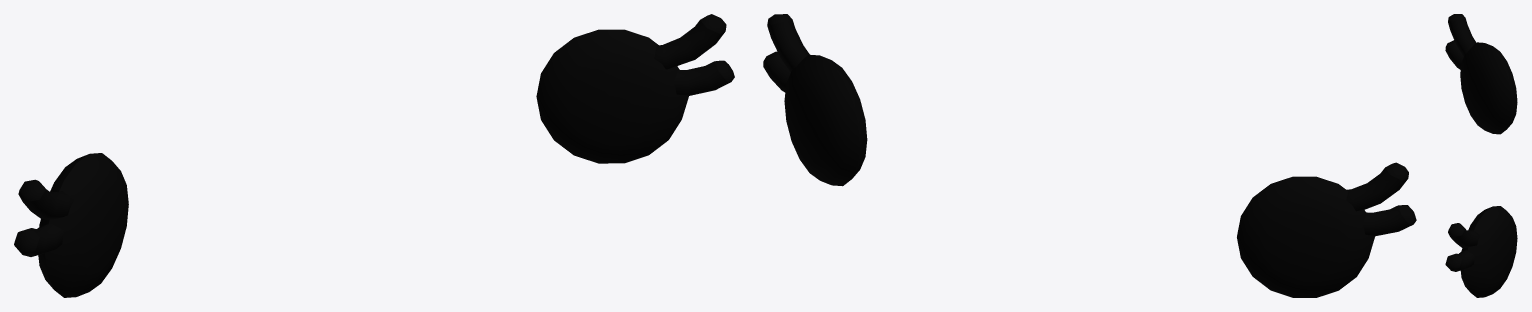
File: Eyes_MM_Open_Pepper.fbx
3 views of the same model, side by side, from view 1: azimuth 30°, elevation 25°; view 2: azimuth 150°, elevation 25°; view 3: azimuth 270°, elevation 25° (orthographic). The views are drawn at different scales.
Parts seen in each view (by area): view 1: Torus; view 2: Torus; view 3: Torus.
Part boxes in pixels (x1,y1,x2,y2): Torus: [14, 14, 734, 297]; Torus: [763, 14, 1416, 297]; Torus: [1445, 14, 1517, 297].
Size of the model in its own units: 14.36 by 2.83 by 1.97.
Materials: 1 (1 with a texture image).
